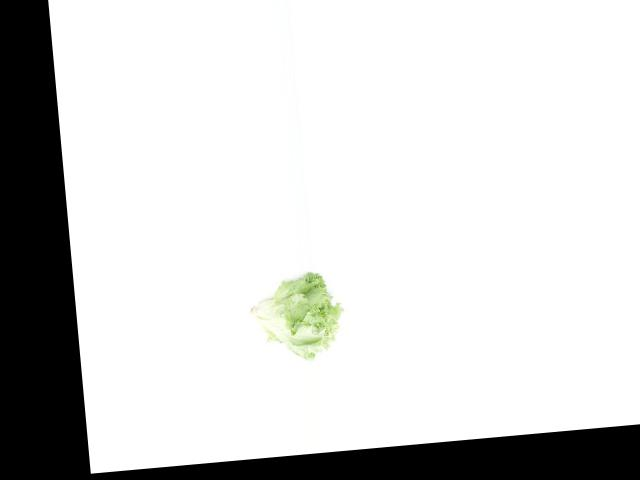lettuce: (246, 268, 345, 367)
